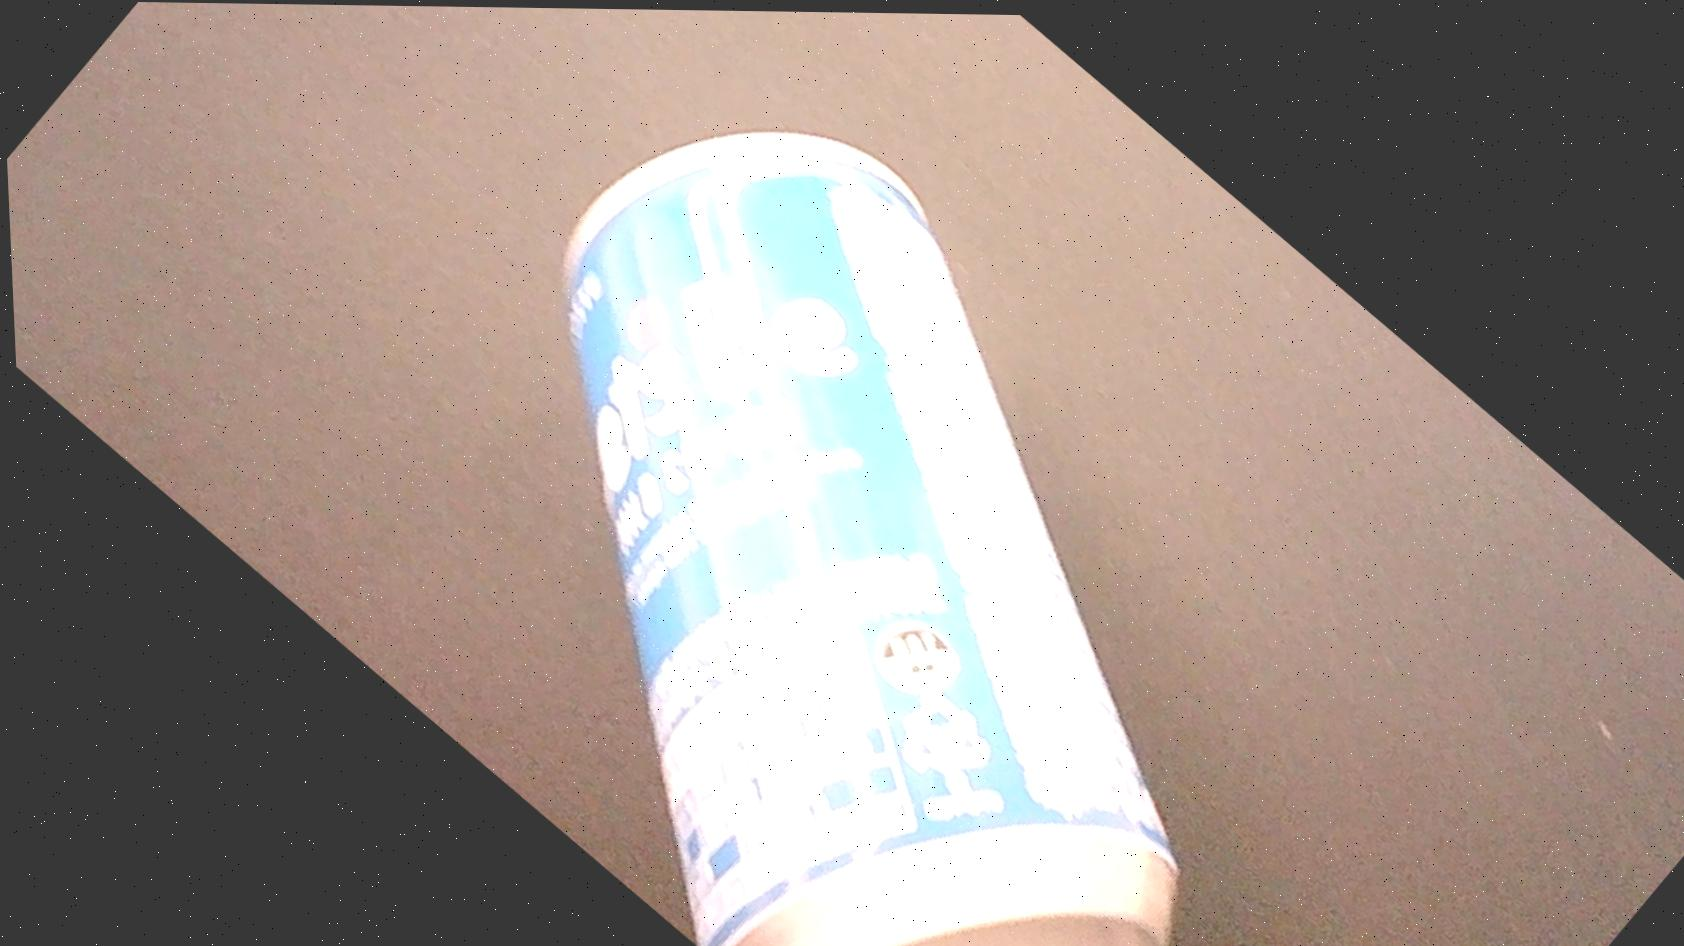letsbe: (245, 24, 1443, 946)
